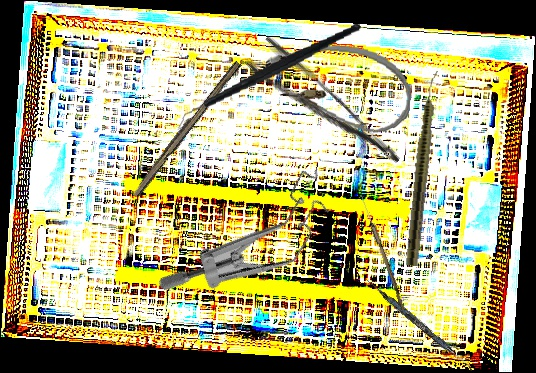Cannula: (259, 37, 416, 137)
Chopper: (165, 23, 371, 131)
Dressing Forceps: (243, 33, 403, 186)
Handpiece: (404, 69, 442, 267)
Scalpel Handle: (130, 57, 242, 200)
Spatula Surgical: (363, 278, 477, 372)
Speculum: (155, 129, 347, 343)
Surgical Spoon: (357, 193, 408, 311)
